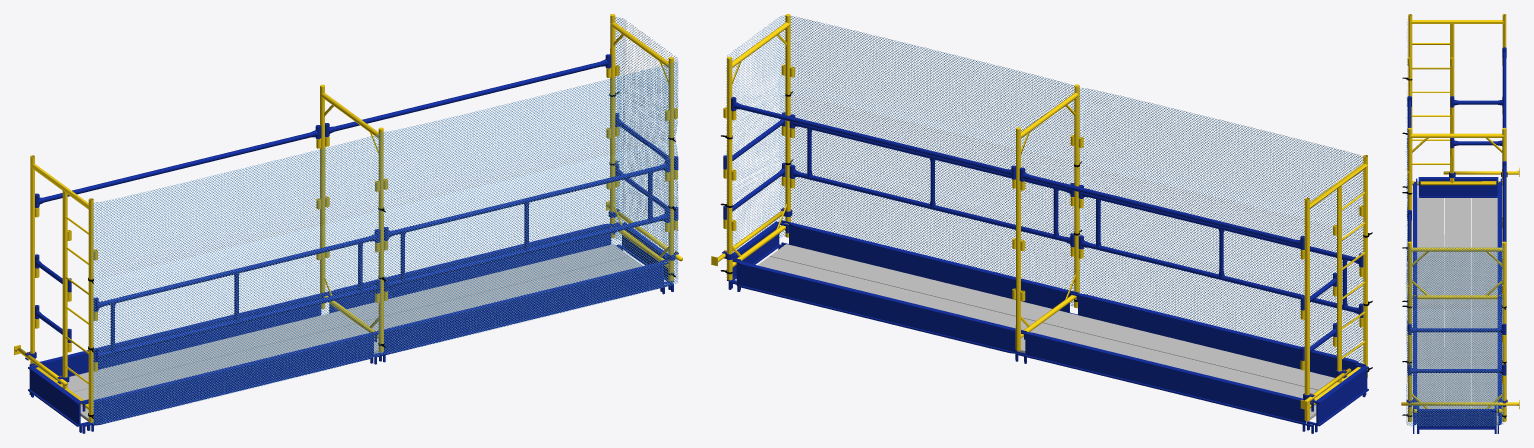
The model's file is SM_Andaime.fbx.
The picture shows the model from 3 angles, left to right: view 1: azimuth 30°, elevation 25°; view 2: azimuth 150°, elevation 25°; view 3: azimuth 270°, elevation 25°; orthographic projection. The views are drawn at different scales.
Visible parts, largest first — view 1: tela_proteção, andaime.piso, andaime.rodape, andaime.rodape.001, andaime.quadro_lateral, andaime.rodape.003, andaime.rodape.002, andaime.quadro_lateral_escada, andaime.guarda-corpo-frontal, andaime.guarda-corpo-frontal.001, andaime.barra-superior, andaime.barra-superior.001 (+2 smaller); view 2: tela_proteção, andaime.piso, andaime.rodape.003, andaime.rodape.002, andaime.quadro_lateral, andaime.rodape.001, andaime.rodape, andaime.quadro_lateral_escada, andaime.guarda-corpo-frontal, andaime.guarda-corpo-frontal.001, andaime.barra-superior.001, andaime.barra-superior (+3 smaller); view 3: andaime.piso, tela_proteção, andaime.quadro_lateral, andaime.quadro_lateral_escada, andaime.rodape.005, andaime.rodape.004, andaime.guarda-corpo-lateral, andaime.rodape.001, andaime.rodape.002, andaime.rodape, andaime.rodape.003, andaime.braço.suporte.001 (+8 smaller).
Part boxes in pixels (x1=…): tela_proteção: x1=92, y1=17, x2=678, y2=424; andaime.piso: x1=57, y1=244, x2=642, y2=422; andaime.rodape: x1=82, y1=330, x2=381, y2=433; andaime.rodape.001: x1=374, y1=262, x2=673, y2=364; andaime.quadro_lateral: x1=320, y1=14, x2=673, y2=351; andaime.rodape.003: x1=29, y1=291, x2=329, y2=395; andaime.rodape.002: x1=321, y1=222, x2=620, y2=313; andaime.quadro_lateral_escada: x1=30, y1=155, x2=93, y2=422; andaime.guarda-corpo-frontal: x1=384, y1=158, x2=670, y2=291; andaime.guarda-corpo-frontal.001: x1=93, y1=229, x2=380, y2=362; andaime.barra-superior: x1=325, y1=54, x2=611, y2=137; andaime.barra-superior.001: x1=35, y1=125, x2=321, y2=207; tela_proteção: x1=726, y1=15, x2=1363, y2=363; andaime.piso: x1=736, y1=244, x2=1336, y2=422; andaime.rodape.003: x1=1015, y1=331, x2=1313, y2=433; andaime.rodape.002: x1=728, y1=259, x2=1026, y2=361; andaime.quadro_lateral: x1=727, y1=14, x2=1079, y2=350; andaime.rodape.001: x1=781, y1=220, x2=1079, y2=314; andaime.rodape: x1=1068, y1=292, x2=1366, y2=394; andaime.quadro_lateral_escada: x1=1304, y1=155, x2=1367, y2=421; andaime.guarda-corpo-frontal: x1=789, y1=114, x2=1074, y2=247; andaime.guarda-corpo-frontal.001: x1=1078, y1=185, x2=1363, y2=317; andaime.barra-superior.001: x1=1019, y1=167, x2=1304, y2=249; andaime.barra-superior: x1=731, y1=97, x2=1015, y2=179; andaime.piso: x1=1417, y1=198, x2=1498, y2=424; tela_proteção: x1=1405, y1=19, x2=1504, y2=426; andaime.quadro_lateral: x1=1408, y1=127, x2=1506, y2=421; andaime.quadro_lateral_escada: x1=1408, y1=14, x2=1506, y2=185; andaime.rodape.005: x1=1417, y1=405, x2=1496, y2=433; andaime.rodape.004: x1=1418, y1=177, x2=1498, y2=197; andaime.guarda-corpo-lateral: x1=1407, y1=323, x2=1506, y2=334; andaime.rodape.001: x1=1413, y1=292, x2=1417, y2=433; andaime.rodape.002: x1=1497, y1=292, x2=1501, y2=433; andaime.rodape: x1=1413, y1=178, x2=1417, y2=297; andaime.rodape.003: x1=1497, y1=178, x2=1501, y2=297; andaime.braço.suporte.001: x1=1401, y1=399, x2=1519, y2=409.
Size of the model in its own units: 6.19 by 1.32 by 2.33.
